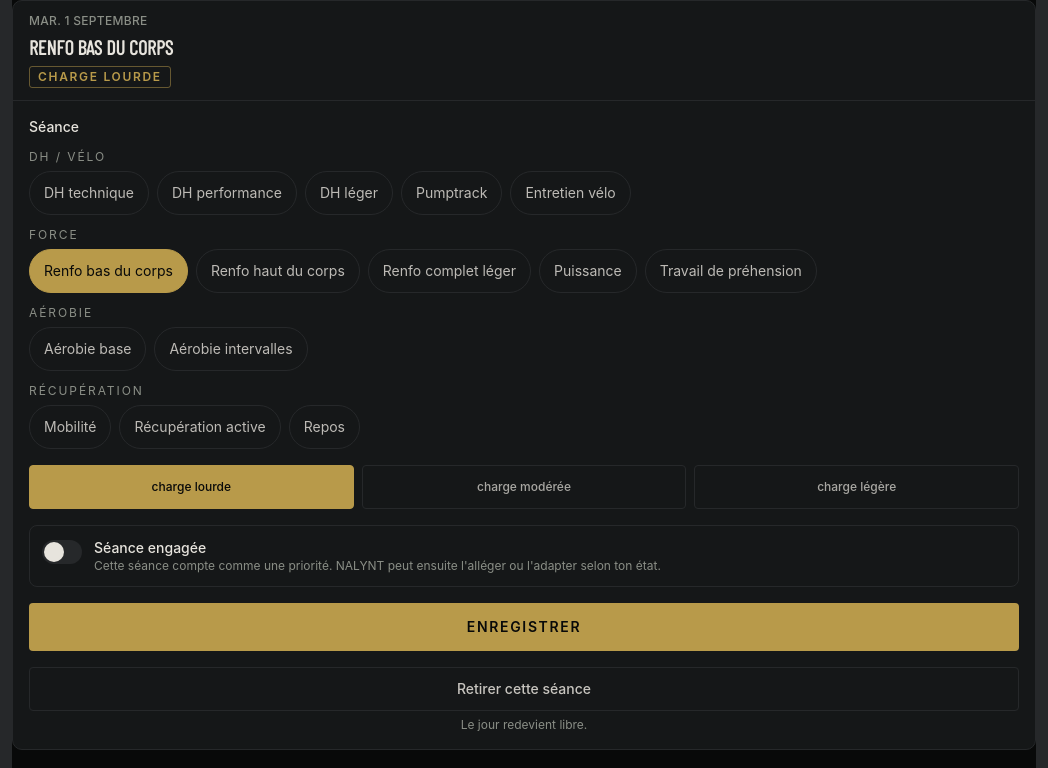
PlanningDayCard — stale load invariant (R, S, T) › S: changing to a different variable kind clears the stale load and requires a new choice
The width and height of the screenshot is (1048, 768).
Step 1. Click the button "DH technique" → (89, 193), box [29,171,149,215]
(page scrolled)
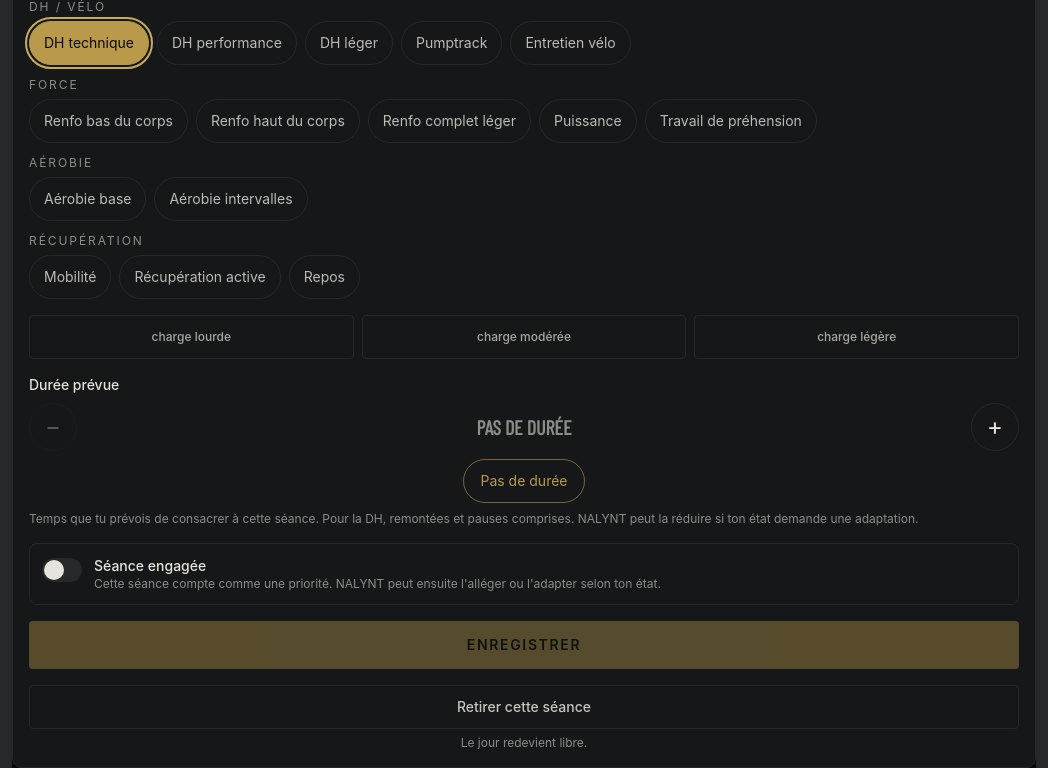
Now the button "Enregistrer" is disabled, box [29,621,1019,669]
